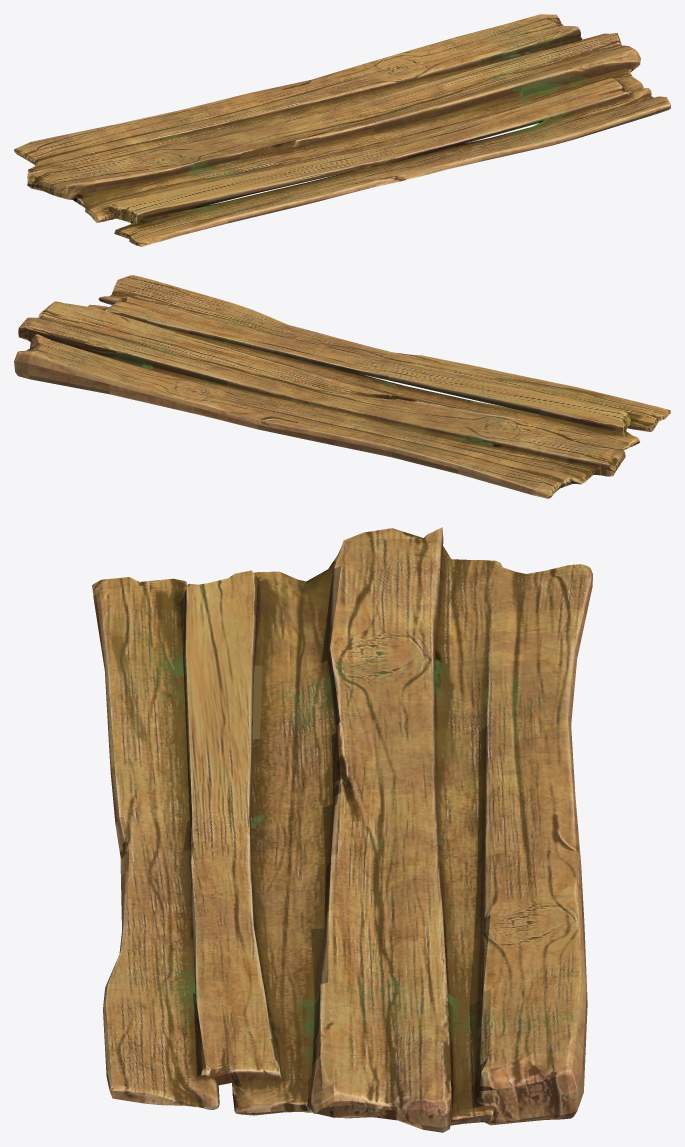
The model's file is SM_BigShingle.fbx.
3 views of the same model, one above another, from view 1: azimuth 30°, elevation 25°; view 2: azimuth 150°, elevation 25°; view 3: azimuth 270°, elevation 25° (orthographic). The views are drawn at different scales.
Visible parts, largest first — view 1: SM_BigShingle_LOD0; view 2: SM_BigShingle_LOD0; view 3: SM_BigShingle_LOD0.
Boxes of the visible parts, x1,y1,x2,y2 form: SM_BigShingle_LOD0: (14,14,670,246); SM_BigShingle_LOD0: (14,275,670,498); SM_BigShingle_LOD0: (92,527,592,1132).
Bounding box in the file's own units: 1106 × 405 × 51.28.
Materials: 1 (1 with a texture image).
